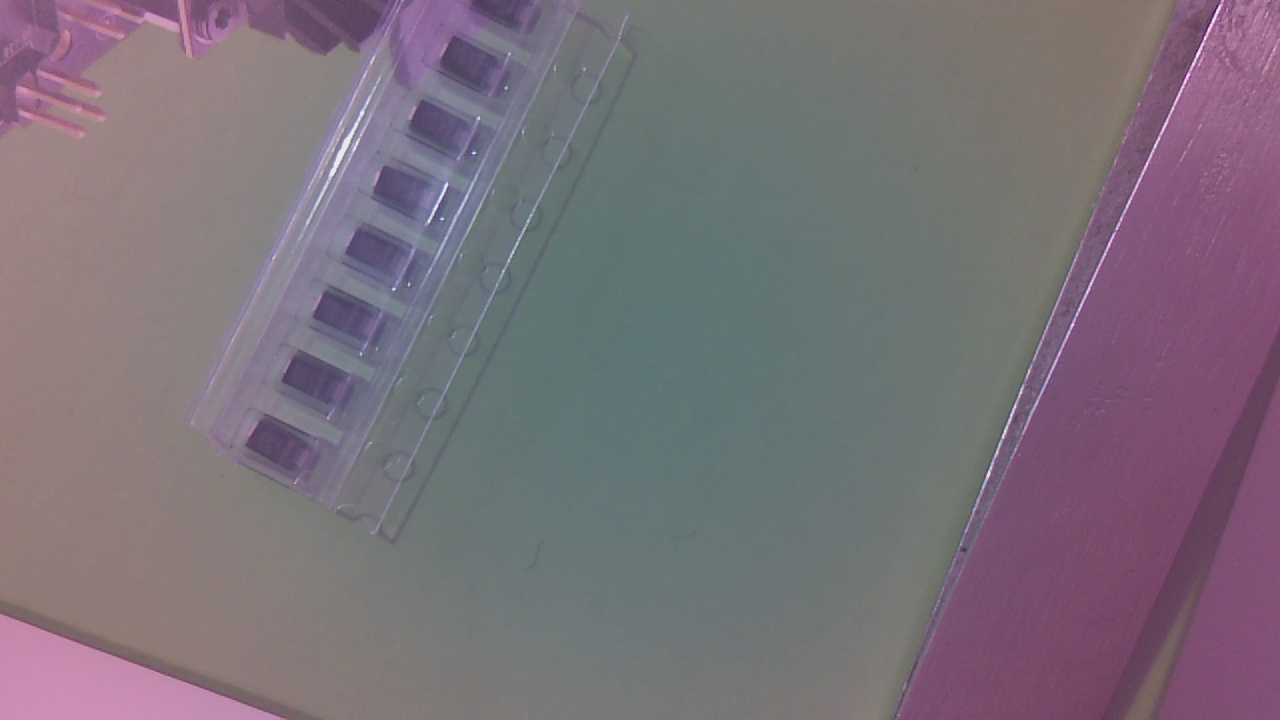Diode: (252, 424, 318, 487), (439, 42, 509, 95), (284, 361, 355, 412), (315, 295, 386, 345), (410, 110, 474, 162), (376, 167, 439, 218), (350, 233, 413, 281), (461, 6, 526, 36)
